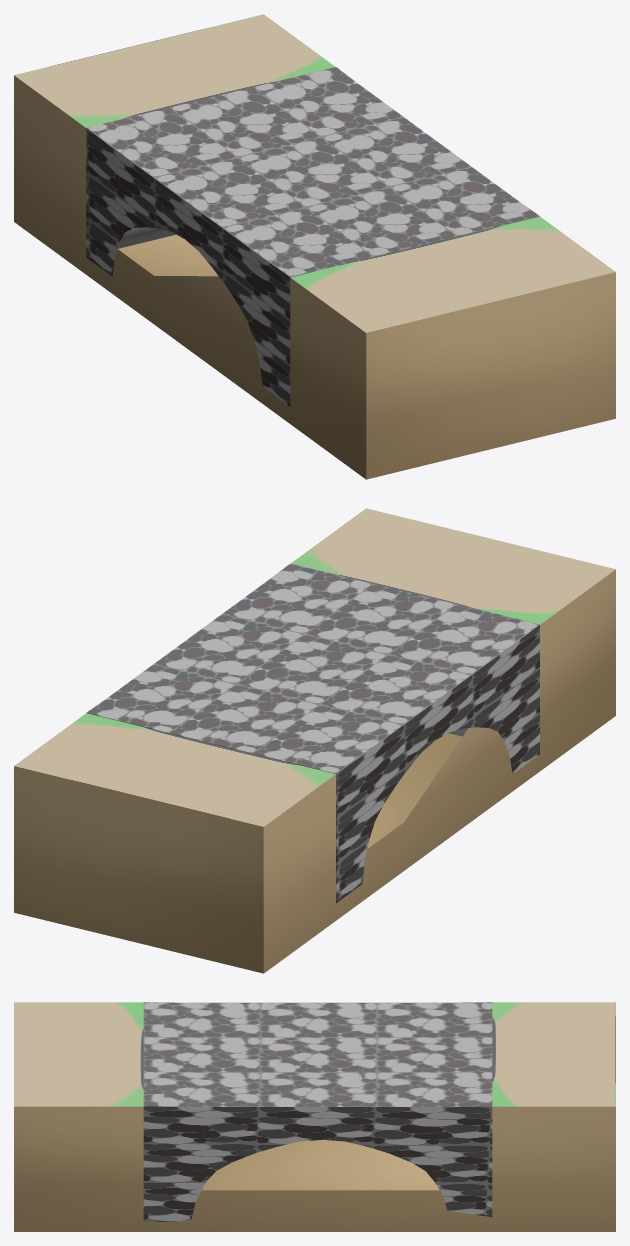
The model's file is ground_center.fbx.
The picture shows the model from 3 angles, top to bottom: view 1: azimuth 30°, elevation 25°; view 2: azimuth 150°, elevation 25°; view 3: azimuth 270°, elevation 25°; orthographic projection. The views are drawn at different scales.
Parts seen in each view (by area): view 1: base1, bridge; view 2: base1, bridge; view 3: base1, bridge.
Part boxes in pixels (x1=…): base1: x1=14, y1=14, x2=615, y2=479; bridge: x1=86, y1=67, x2=539, y2=406; base1: x1=14, y1=508, x2=615, y2=973; bridge: x1=86, y1=563, x2=539, y2=903; base1: x1=14, y1=1002, x2=615, y2=1231; bridge: x1=143, y1=1002, x2=492, y2=1221.
Bounding box in the file's own units: 5.77 × 3.24 × 14.08.
6 materials, 5 textured.
